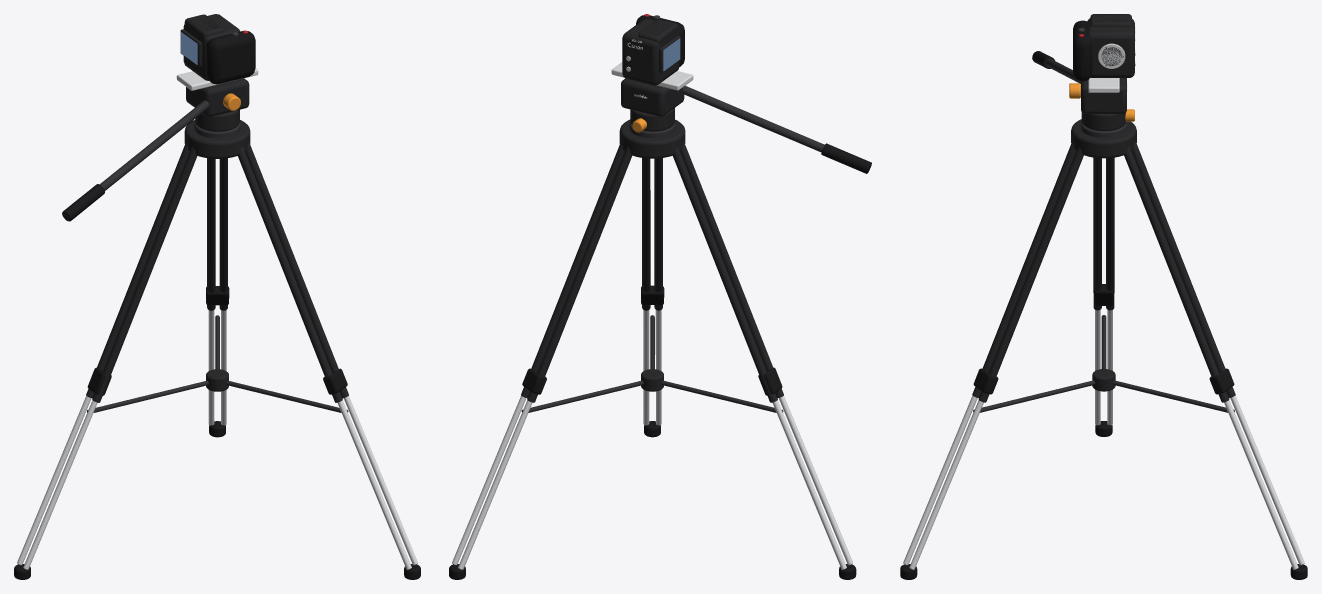
The model's file is canon_c70_tripie_video.glb.
3 renders of one model, left to right at view 1: azimuth 30°, elevation 25°; view 2: azimuth 150°, elevation 25°; view 3: azimuth 270°, elevation 25°, orthographic.
Visible parts, largest first — view 1: Canon EOS C70 en tripié de video; view 2: Canon EOS C70 en tripié de video; view 3: Canon EOS C70 en tripié de video.
Part boxes in pixels (x1,y1,x2,y2): Canon EOS C70 en tripié de video: (14,14,420,579); Canon EOS C70 en tripié de video: (449,14,871,579); Canon EOS C70 en tripié de video: (900,14,1307,579).
Bounding box in the file's own units: 0.9175 × 1.44 × 1.05.
